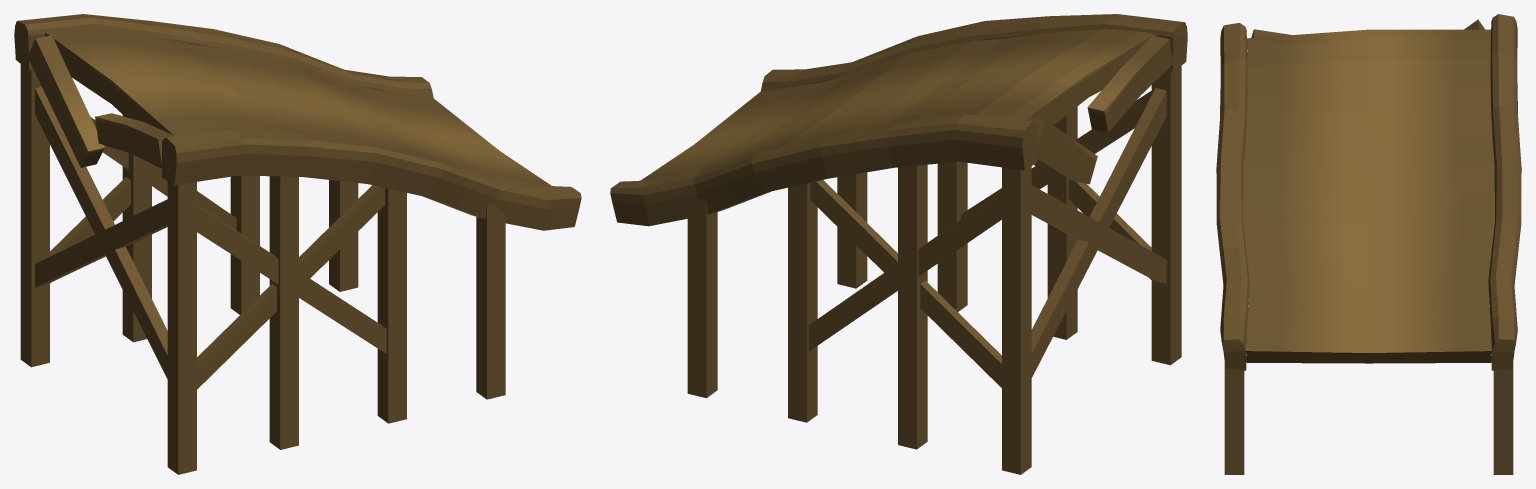
File: wooden ramp.fbx
The picture shows the model from 3 angles, left to right: view 1: azimuth 30°, elevation 25°; view 2: azimuth 150°, elevation 25°; view 3: azimuth 270°, elevation 25°; orthographic projection. The views are drawn at different scales.
Parts seen in each view (by area): view 1: wooden ramp_LOD0; view 2: wooden ramp_LOD0; view 3: wooden ramp_LOD0.
Boxes of the visible parts, x1,y1,x2,y2 form: wooden ramp_LOD0: (14,14,581,474); wooden ramp_LOD0: (610,14,1187,474); wooden ramp_LOD0: (1216,14,1521,474).
Size of what is drawn, in the model's own units: 19.03 by 15.31 by 13.52.
